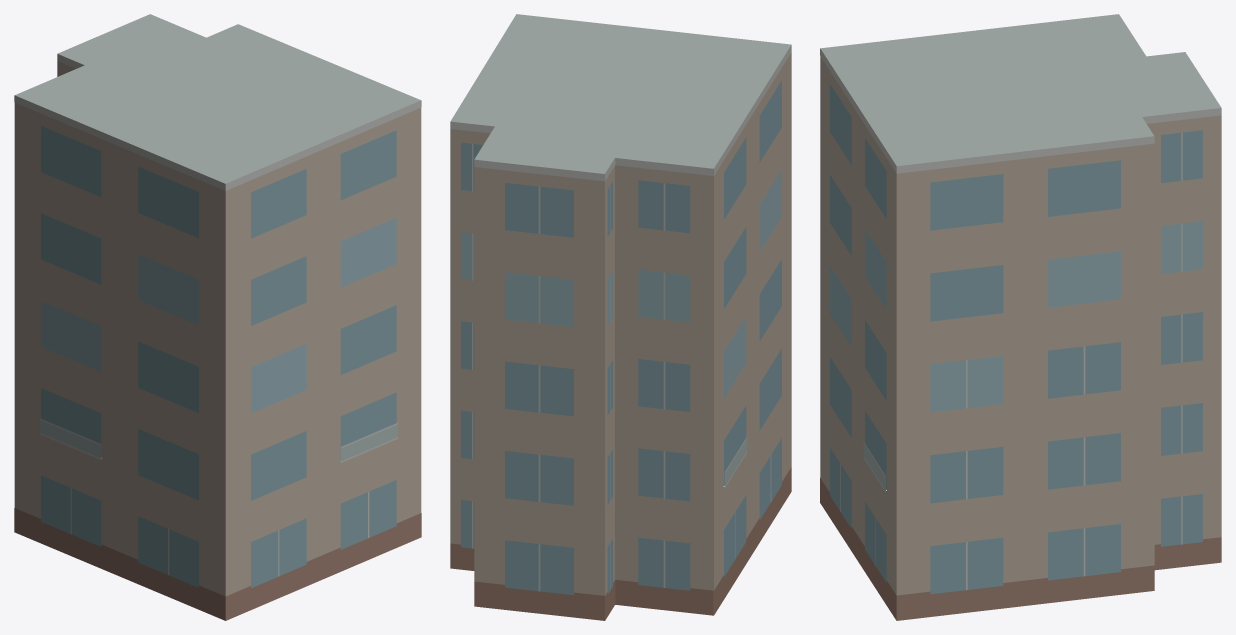
Rendered from survey-upis-32611218.glb.
3 renders of one model, left to right at view 1: azimuth 30°, elevation 25°; view 2: azimuth 150°, elevation 25°; view 3: azimuth 270°, elevation 25°, orthographic. The views are drawn at different scales.
Visible parts, largest first — view 1: survey-upis-32611218.tmp; view 2: survey-upis-32611218.tmp; view 3: survey-upis-32611218.tmp.
Boxes of the visible parts, left/top/right/bottom form: survey-upis-32611218.tmp: left=14, top=14, right=421, bottom=620; survey-upis-32611218.tmp: left=450, top=14, right=791, bottom=620; survey-upis-32611218.tmp: left=820, top=14, right=1221, bottom=620.
Size of the model in its own units: 10.75 by 14.95 by 11.97.
